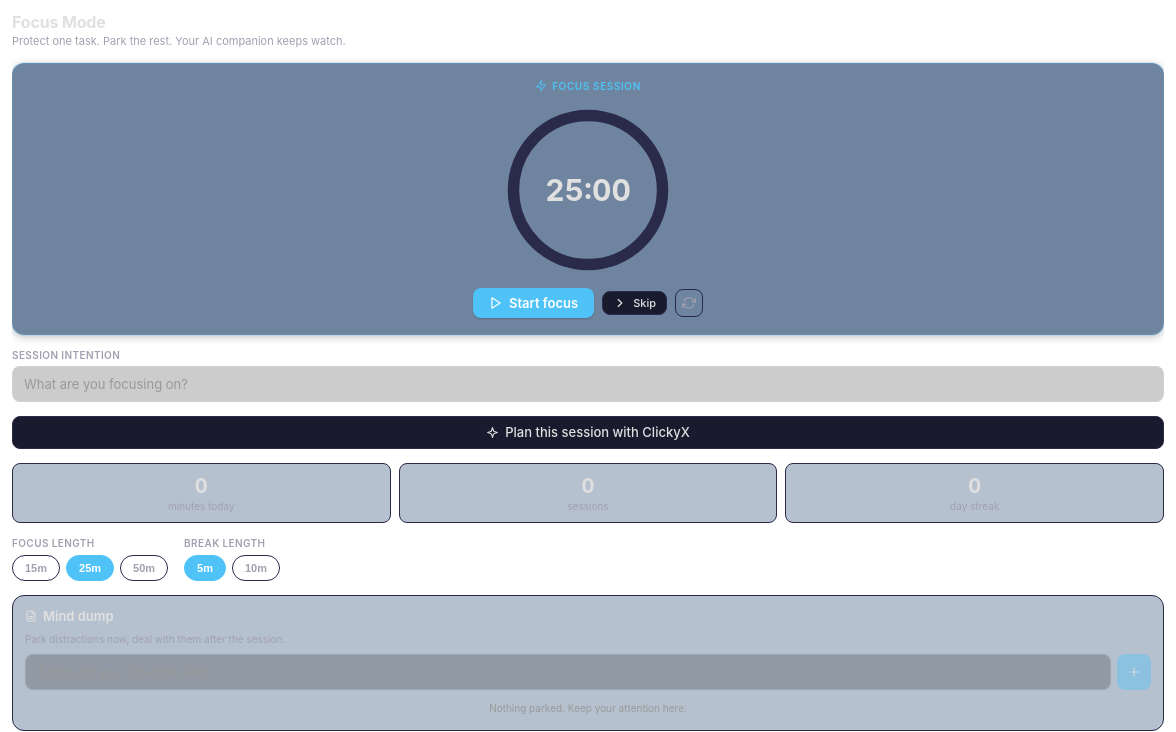
Test: FocusTab › switches preset durations
This screenshot has width=1176, height=732.
Click the button "50m" at (144, 568), box [120,555,168,581]
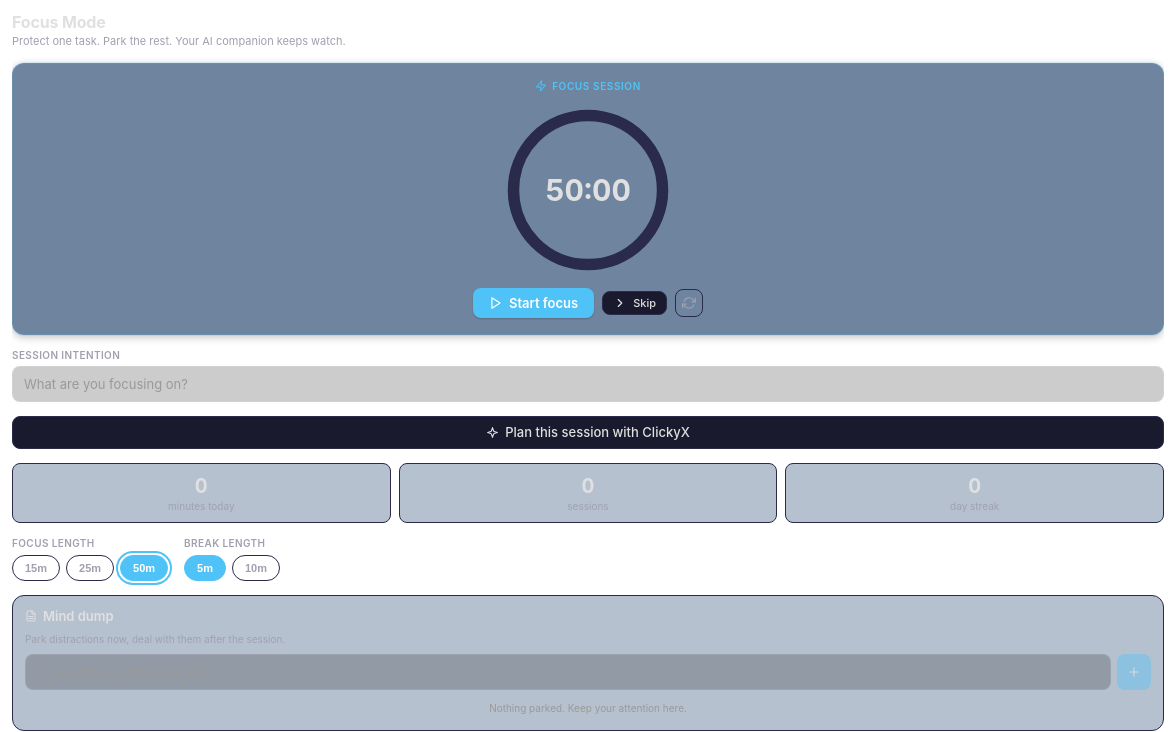
Check: the text "50:00" is shown, box [545,172,631,208]
